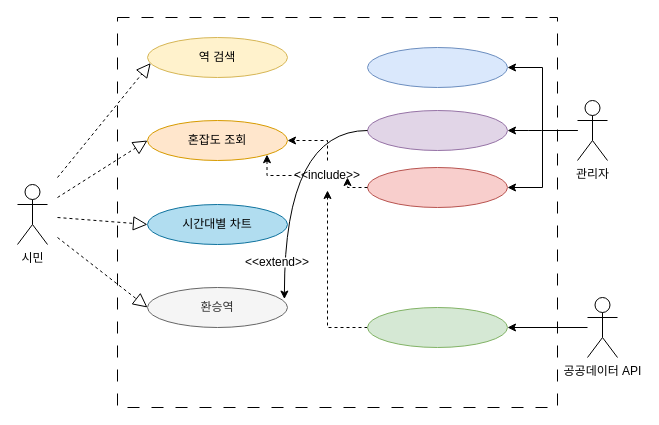
The diagram is 659 pixels wide and 425 high, and some of its shapes have lost their labels. The box of each missing label's shape, as (x1, y1, x2, y2) in pixels:
데이터 관리: (366, 110, 508, 150)
데이터 수집 설정: (366, 46, 508, 88)
데이터 통계: (366, 166, 508, 208)
실시간 데이터 제공: (366, 306, 508, 348)
